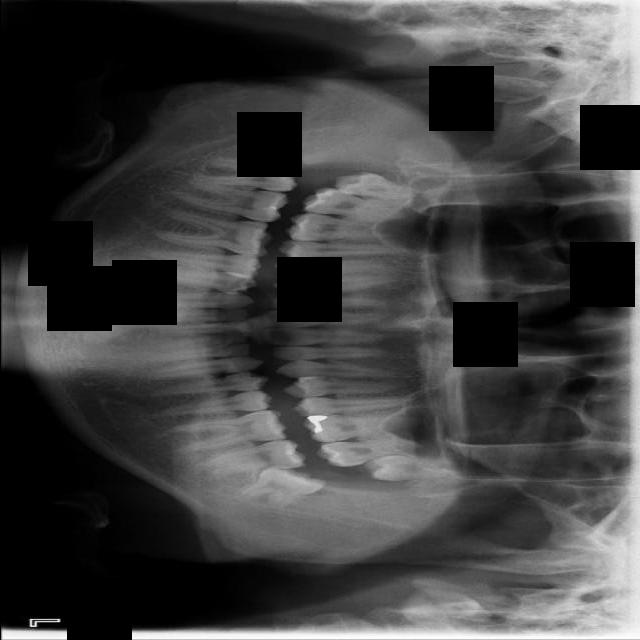3M ESPE Implant: (332, 167, 420, 205)
52: (242, 187, 291, 226), (302, 414, 360, 443)
73: (46, 596, 58, 603)
BioHorizons Implant: (314, 437, 419, 469)
BioLife Implant: (364, 453, 465, 481)
Biomet 3i Implant: (235, 453, 326, 525)
Blue Sky Bio Implant: (201, 438, 306, 475)
Caries: (299, 185, 409, 222)
Implant: (179, 175, 290, 226)
Keystone Dental Implant: (199, 156, 300, 192)
